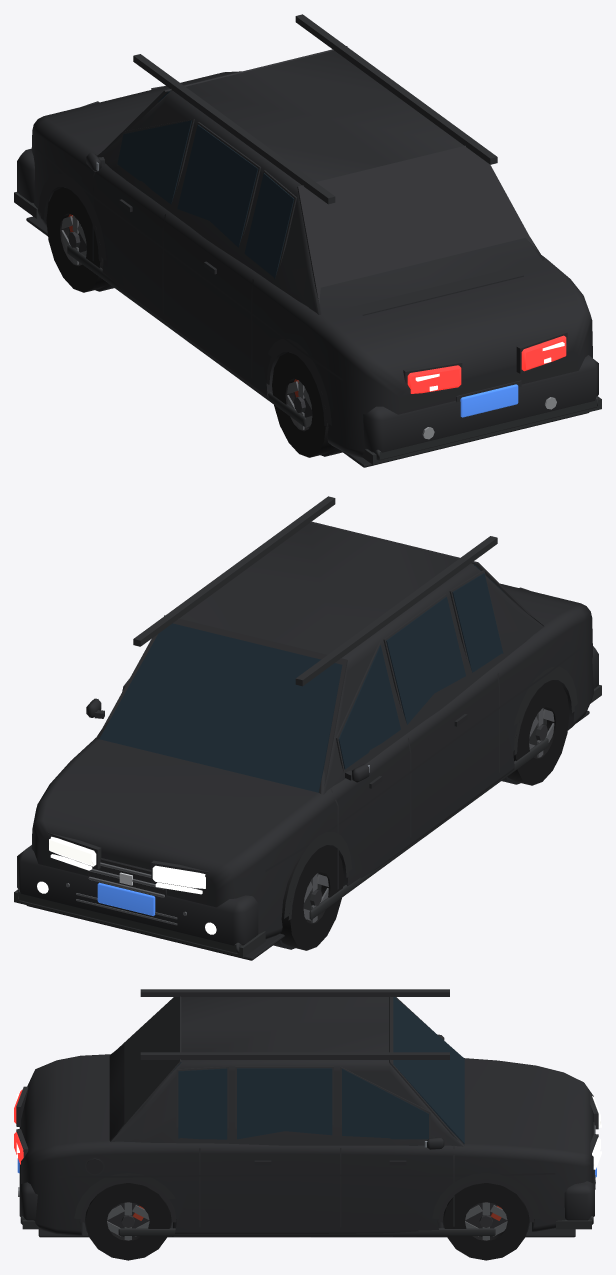
The model's file is car_suv_urban_black.glb.
The picture shows the model from 3 angles, top to bottom: view 1: azimuth 30°, elevation 25°; view 2: azimuth 150°, elevation 25°; view 3: azimuth 270°, elevation 25°; orthographic projection. The views are drawn at different scales.
Parts seen in each view (by area): view 1: Body, Trim, Glass, Wheel_RL, Wheel_FL, Lights, Plate_R; view 2: Body, Glass, Trim, Wheel_FL, Wheel_RL, Lights, Plate_F; view 3: Body, Glass, Trim, Wheel_FR, Wheel_RR, Lights.
Part boxes in pixels (<box>): Body: <box>17,50,598,457</box>; Trim: <box>14,14,601,467</box>; Glass: <box>96,91,294,279</box>; Wheel_RL: <box>272,352,334,457</box>; Wheel_FL: <box>46,187,108,292</box>; Lights: <box>407,335,566,393</box>; Plate_R: <box>460,384,518,417</box>; Body: <box>17,523,598,945</box>; Glass: <box>98,564,503,792</box>; Trim: <box>14,496,601,960</box>; Wheel_FL: <box>280,845,343,950</box>; Wheel_RL: <box>507,680,569,785</box>; Lights: <box>37,836,216,934</box>; Plate_F: <box>97,882,155,915</box>; Body: <box>19,997,594,1237</box>; Glass: <box>171,997,464,1147</box>; Trim: <box>16,989,598,1237</box>; Wheel_FR: <box>443,1183,529,1260</box>; Wheel_RR: <box>85,1183,171,1260</box>; Lights: <box>14,1090,601,1169</box>.
Size of the model in its own units: 2.13 by 1.79 by 4.93.
